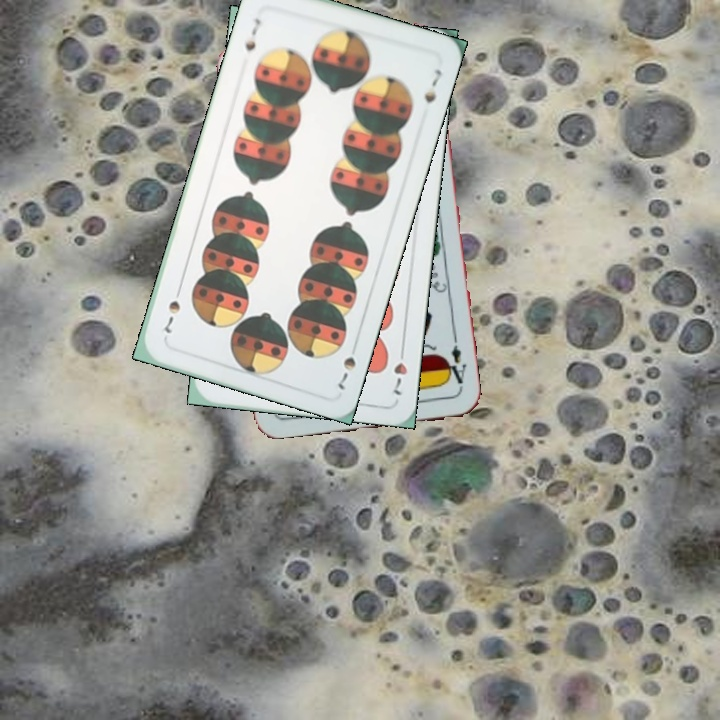EA: (441, 334, 470, 393)
H7: (389, 341, 410, 398)
S7: (334, 337, 361, 393), (241, 14, 264, 54)
